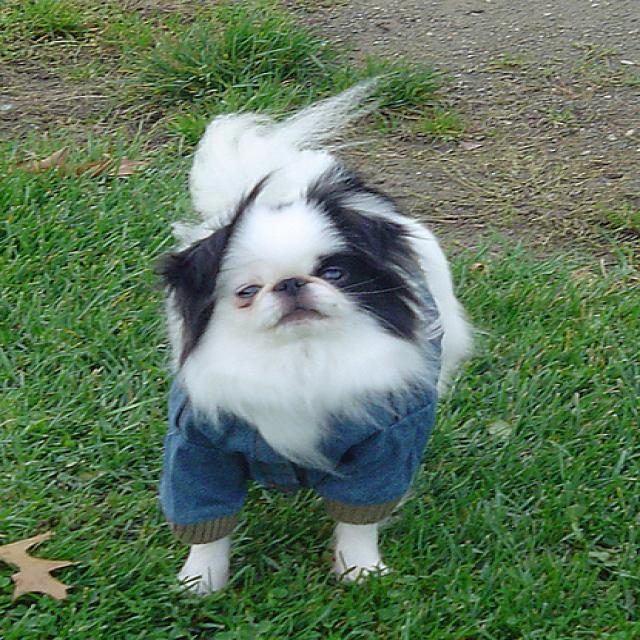dog-japanese_chin: (140, 65, 486, 472)
